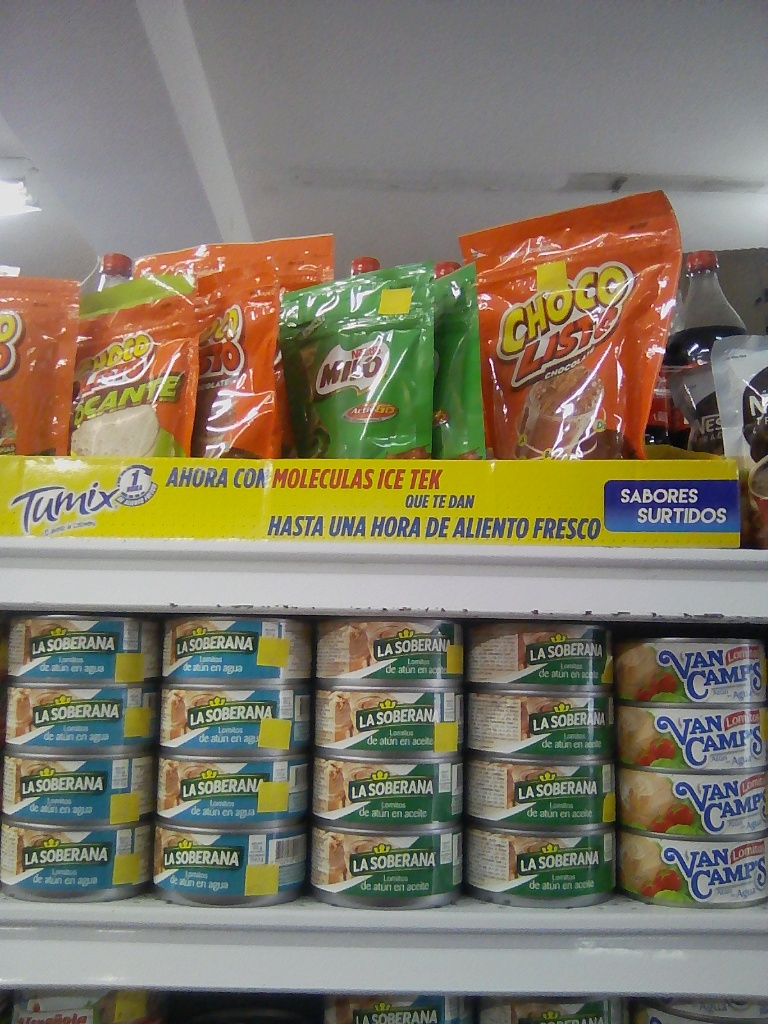COL0170203DYP10000: (273, 263, 467, 458)
